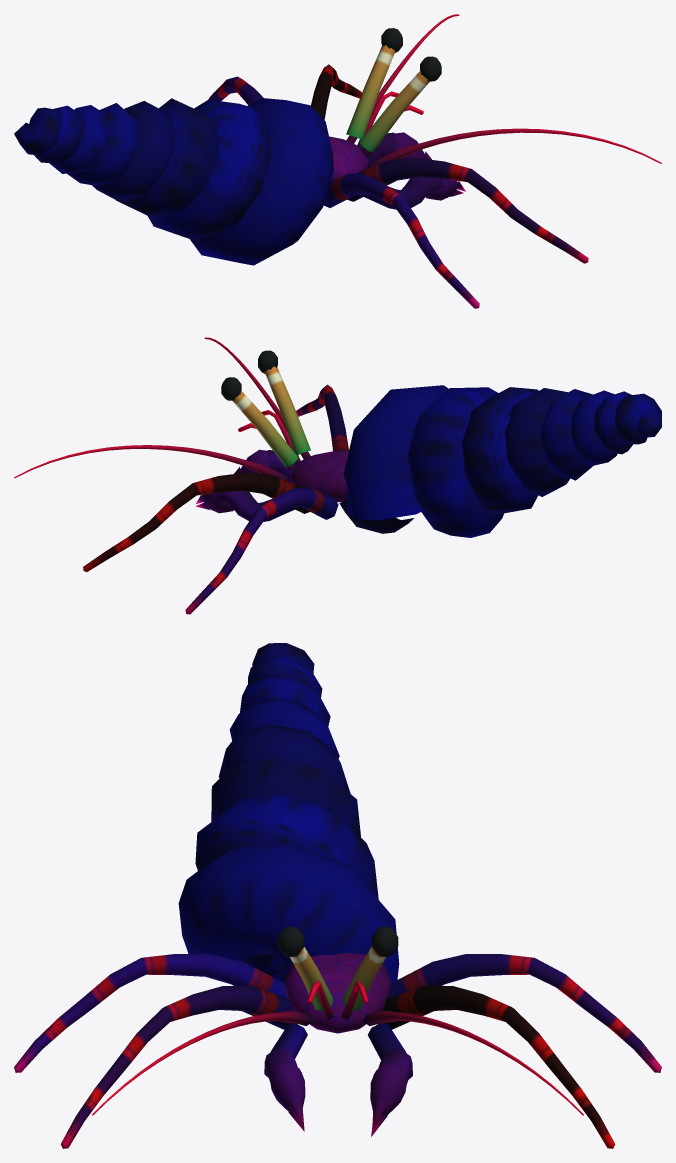
Rendered from hermit_blue.glb.
3 renders of one model, top to bottom at view 1: azimuth 30°, elevation 25°; view 2: azimuth 150°, elevation 25°; view 3: azimuth 270°, elevation 25°, orthographic. The views are drawn at different scales.
Parts seen in each view (by area): view 1: Shell, Legs, Eyes, Antennae, Claws, Body; view 2: Shell, Legs, Eyes, Body, Antennae, Claws; view 3: Shell, Legs, Claws, Body, Antennae, Eyes.
Boxes of the visible parts, left/top/right/bottom form: Shell: left=14, top=98, right=333, bottom=265; Legs: left=208, top=64, right=588, bottom=308; Eyes: left=346, top=28, right=441, bottom=151; Antennae: left=346, top=14, right=661, bottom=167; Claws: left=360, top=132, right=465, bottom=209; Body: left=329, top=136, right=368, bottom=180; Shell: left=343, top=385, right=661, bottom=537; Legs: left=83, top=384, right=348, bottom=614; Eyes: left=221, top=350, right=310, bottom=467; Body: left=290, top=451, right=413, bottom=533; Antennae: left=14, top=337, right=310, bottom=481; Claws: left=195, top=449, right=297, bottom=521; Shell: left=178, top=643, right=399, bottom=982; Legs: left=14, top=954, right=661, bottom=1148; Claws: left=264, top=1023, right=412, bottom=1136; Body: left=285, top=952, right=390, bottom=1033; Antennae: left=92, top=980, right=583, bottom=1115; Eyes: left=277, top=926, right=398, bottom=1010.
Bounding box in the file's own units: 1.23 × 0.4127 × 1.01.
Materials: 2 (1 with a texture image).
